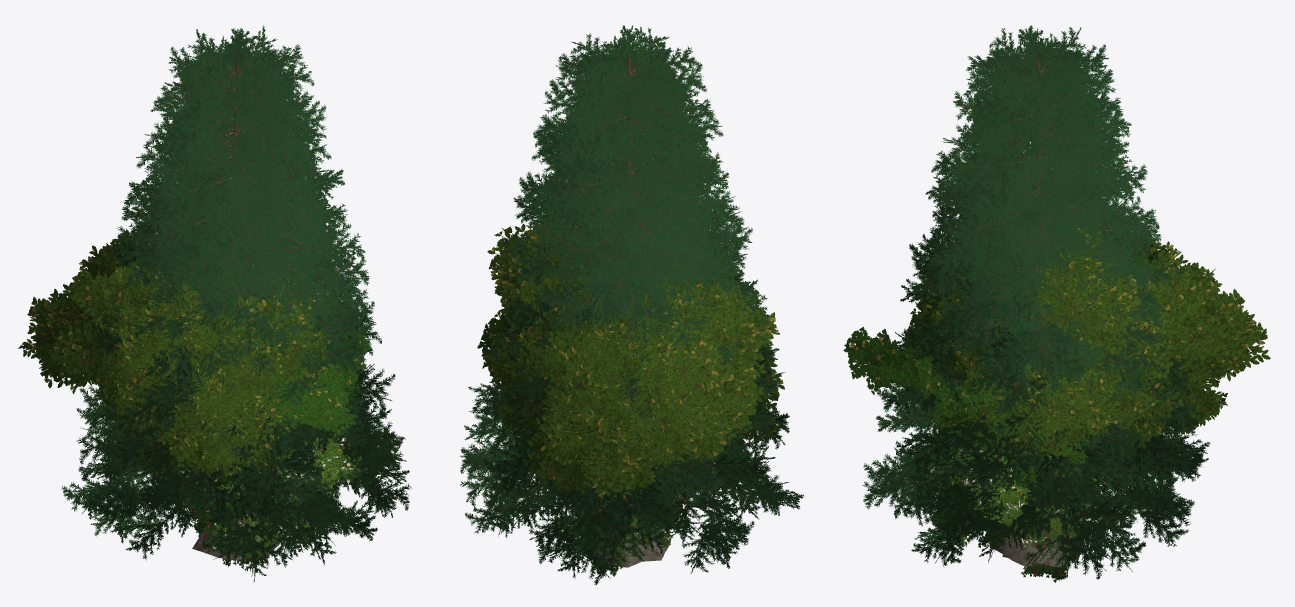
The model's file is nature.glb.
The picture shows the model from 3 angles, left to right: view 1: azimuth 30°, elevation 25°; view 2: azimuth 150°, elevation 25°; view 3: azimuth 270°, elevation 25°; orthographic projection.
Visible parts, largest first — view 1: tree_pine_leaves, tree_oak_leaves, tree_pine_b_leaves, tree_oak_b_leaves, tree_pear_leaves, tree_apple_leaves, bush_round_leaves, tree_pine_bark, tree_oak_bark, bush_berry_leaves; view 2: tree_pine_leaves, tree_oak_leaves, tree_pine_b_leaves, tree_oak_b_leaves, tree_oak_bark, bush_berry_leaves; view 3: tree_pine_leaves, tree_oak_leaves, tree_pine_b_leaves, tree_pear_leaves, tree_oak_b_leaves, tree_apple_leaves, bush_berry_leaves, tree_oak_bark, bush_round_leaves.
Boxes of the visible parts, x1=… form: tree_pine_leaves: x1=62, y1=25, x2=411, y2=564; tree_oak_leaves: x1=18, y1=200, x2=341, y2=478; tree_pine_b_leaves: x1=89, y1=163, x2=382, y2=581; tree_oak_b_leaves: x1=62, y1=269, x2=366, y2=486; tree_pear_leaves: x1=187, y1=331, x2=371, y2=467; tree_apple_leaves: x1=173, y1=430, x2=363, y2=547; bush_round_leaves: x1=197, y1=513, x2=278, y2=568; tree_pine_bark: x1=128, y1=54, x2=359, y2=525; tree_oak_bark: x1=106, y1=350, x2=280, y2=560; bush_berry_leaves: x1=189, y1=509, x2=284, y2=564; tree_pine_leaves: x1=459, y1=25, x2=804, y2=573; tree_oak_leaves: x1=487, y1=216, x2=785, y2=500; tree_pine_b_leaves: x1=481, y1=163, x2=771, y2=584; tree_oak_b_leaves: x1=477, y1=308, x2=777, y2=502; tree_oak_bark: x1=592, y1=446, x2=671, y2=567; bush_berry_leaves: x1=574, y1=503, x2=670, y2=576; tree_pine_leaves: x1=862, y1=25, x2=1210, y2=579; tree_oak_leaves: x1=907, y1=223, x2=1270, y2=456; tree_pine_b_leaves: x1=891, y1=148, x2=1191, y2=571; tree_pear_leaves: x1=843, y1=324, x2=1088, y2=487; tree_oak_b_leaves: x1=901, y1=237, x2=1188, y2=458; tree_apple_leaves: x1=927, y1=431, x2=1098, y2=546; bush_berry_leaves: x1=1020, y1=509, x2=1086, y2=582; tree_oak_bark: x1=994, y1=361, x2=1079, y2=567; bush_round_leaves: x1=978, y1=514, x2=1085, y2=548.
Bounding box in the file's own units: 10.89 × 17.14 × 12.41.
11 materials, 11 textured.
